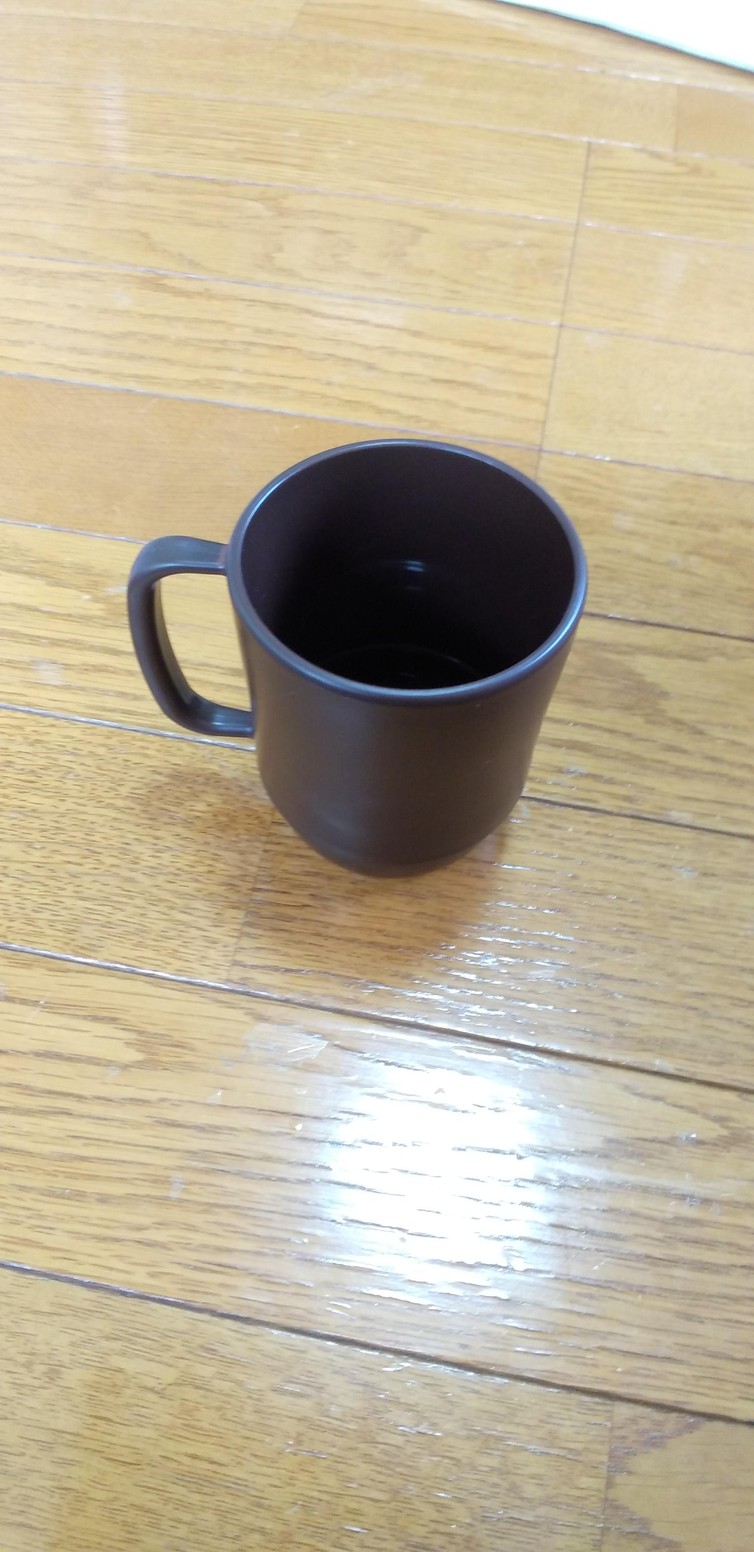mug-real100-3d100: (127, 440, 587, 876)
